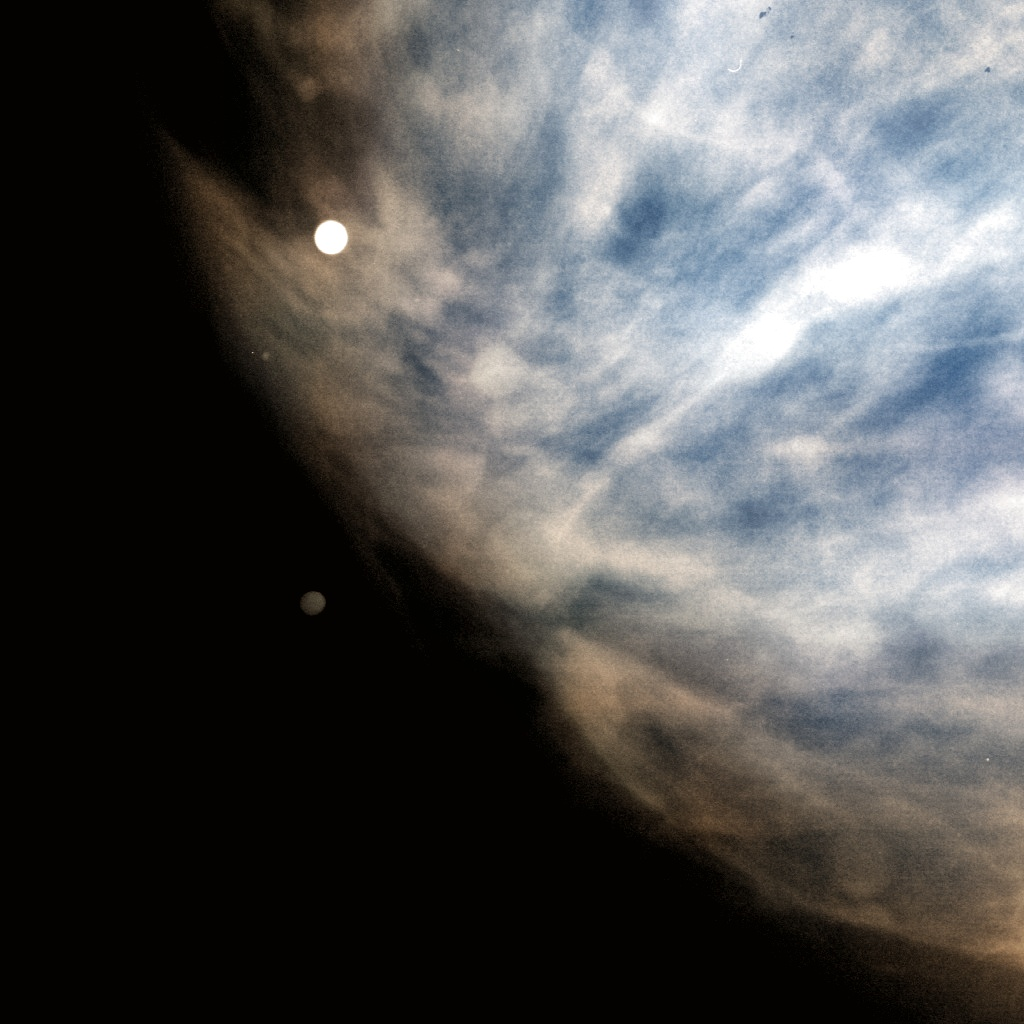tumor: (378, 393, 646, 631)
